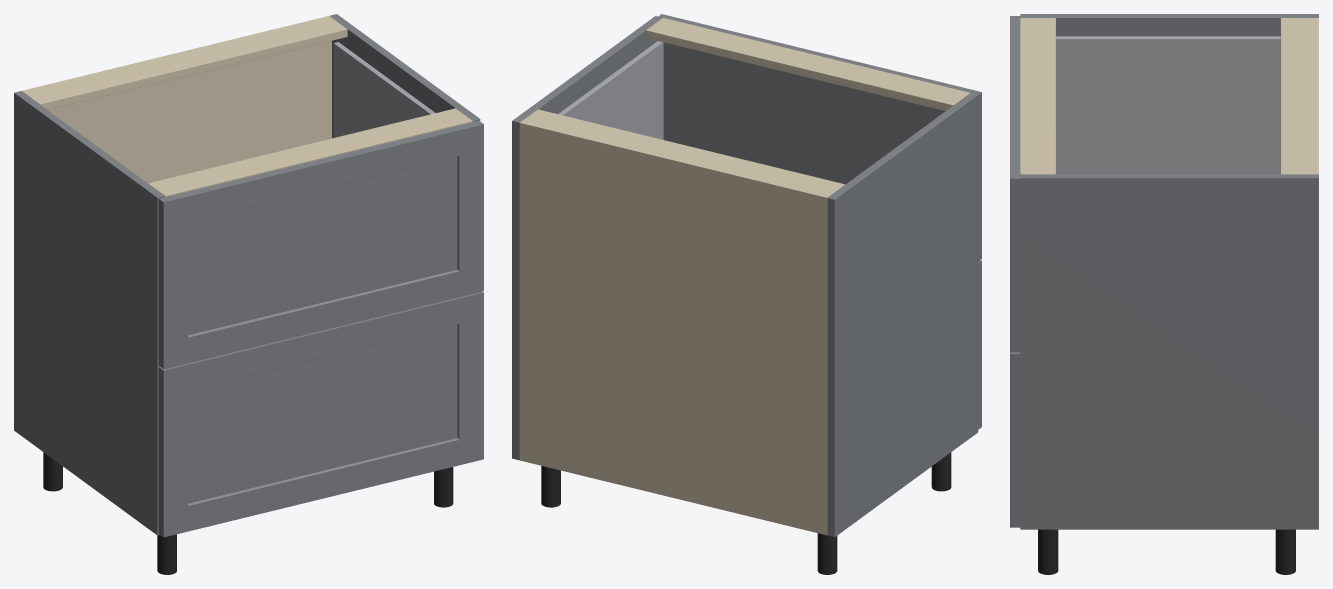
File: oppein-ply-gss-2db30.glb
The picture shows the model from 3 angles, left to right: view 1: azimuth 30°, elevation 25°; view 2: azimuth 150°, elevation 25°; view 3: azimuth 270°, elevation 25°; orthographic projection. The views are drawn at different scales.
Visible parts, largest first — view 1: Drawer front.001, Drawer front, Cabinet side, Cabinet back, Top support rail, Top support rail.001, Drawer side.003, Cabinet side.001, Adjustable foot.001, Adjustable foot.003, Adjustable foot; view 2: Cabinet back, Cabinet side, Drawer front.001, Top support rail.001, Cabinet side.001, Drawer side.003, Top support rail, Adjustable foot, Adjustable foot.002, Cabinet bottom, Drawer front, Adjustable foot.001; view 3: Cabinet side.001, Drawer side.002, Top support rail.001, Cabinet side, Top support rail, Drawer front.001, Drawer front, Adjustable foot.003, Adjustable foot.002, Cabinet back.
Boxes of the visible parts, x1=… form: Drawer front.001: x1=158, y1=120, x2=483, y2=368; Drawer front: x1=158, y1=291, x2=483, y2=537; Cabinet side: x1=14, y1=91, x2=164, y2=535; Cabinet back: x1=22, y1=16, x2=331, y2=183; Top support rail: x1=23, y1=17, x2=347, y2=109; Top support rail.001: x1=148, y1=108, x2=472, y2=196; Drawer side.003: x1=333, y1=42, x2=435, y2=137; Cabinet side.001: x1=329, y1=14, x2=480, y2=138; Adjustable foot.001: x1=157, y1=534, x2=176, y2=574; Adjustable foot.003: x1=434, y1=467, x2=453, y2=507; Adjustable foot: x1=43, y1=452, x2=62, y2=491; Cabinet back: x1=519, y1=120, x2=829, y2=534; Cabinet side: x1=827, y1=93, x2=978, y2=537; Drawer front.001: x1=658, y1=14, x2=981, y2=261; Top support rail.001: x1=646, y1=18, x2=969, y2=110; Cabinet side.001: x1=512, y1=16, x2=662, y2=460; Drawer side.003: x1=558, y1=41, x2=663, y2=139; Top support rail: x1=523, y1=109, x2=844, y2=195; Adjustable foot: x1=817, y1=533, x2=837, y2=574; Adjustable foot.002: x1=541, y1=466, x2=560, y2=507; Cabinet bottom: x1=519, y1=456, x2=826, y2=535; Drawer front: x1=978, y1=260, x2=981, y2=429; Adjustable foot.001: x1=931, y1=452, x2=951, y2=491; Cabinet side.001: x1=1020, y1=174, x2=1318, y2=529; Drawer side.002: x1=1056, y1=36, x2=1280, y2=174; Top support rail.001: x1=1020, y1=18, x2=1055, y2=174; Cabinet side: x1=1020, y1=14, x2=1318, y2=36; Top support rail: x1=1280, y1=18, x2=1315, y2=174; Drawer front.001: x1=1010, y1=16, x2=1020, y2=352; Drawer front: x1=1010, y1=352, x2=1020, y2=527; Adjustable foot.003: x1=1038, y1=529, x2=1058, y2=574; Adjustable foot.002: x1=1275, y1=529, x2=1295, y2=574; Cabinet back: x1=1313, y1=18, x2=1318, y2=174.
Bounding box in the file's own units: 0.762 × 0.8763 × 0.6064.
